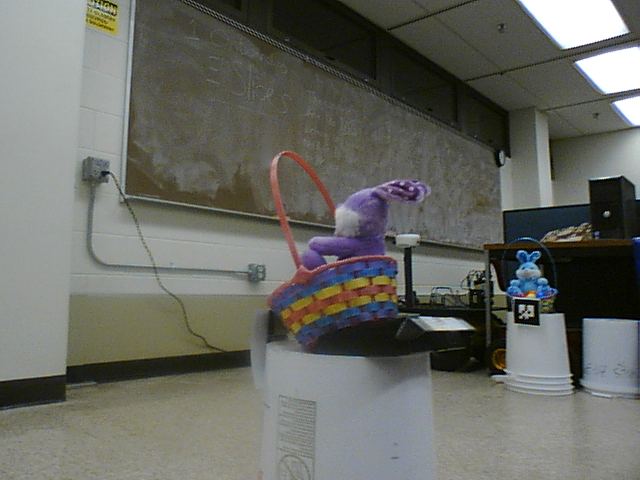bunny: (260, 148, 419, 341), (495, 231, 561, 310)
